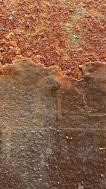Corrosion: (1, 1, 106, 81)
